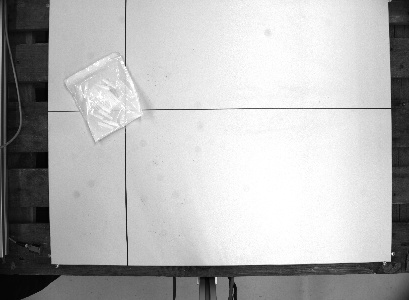t3: (126, 27, 201, 109)
